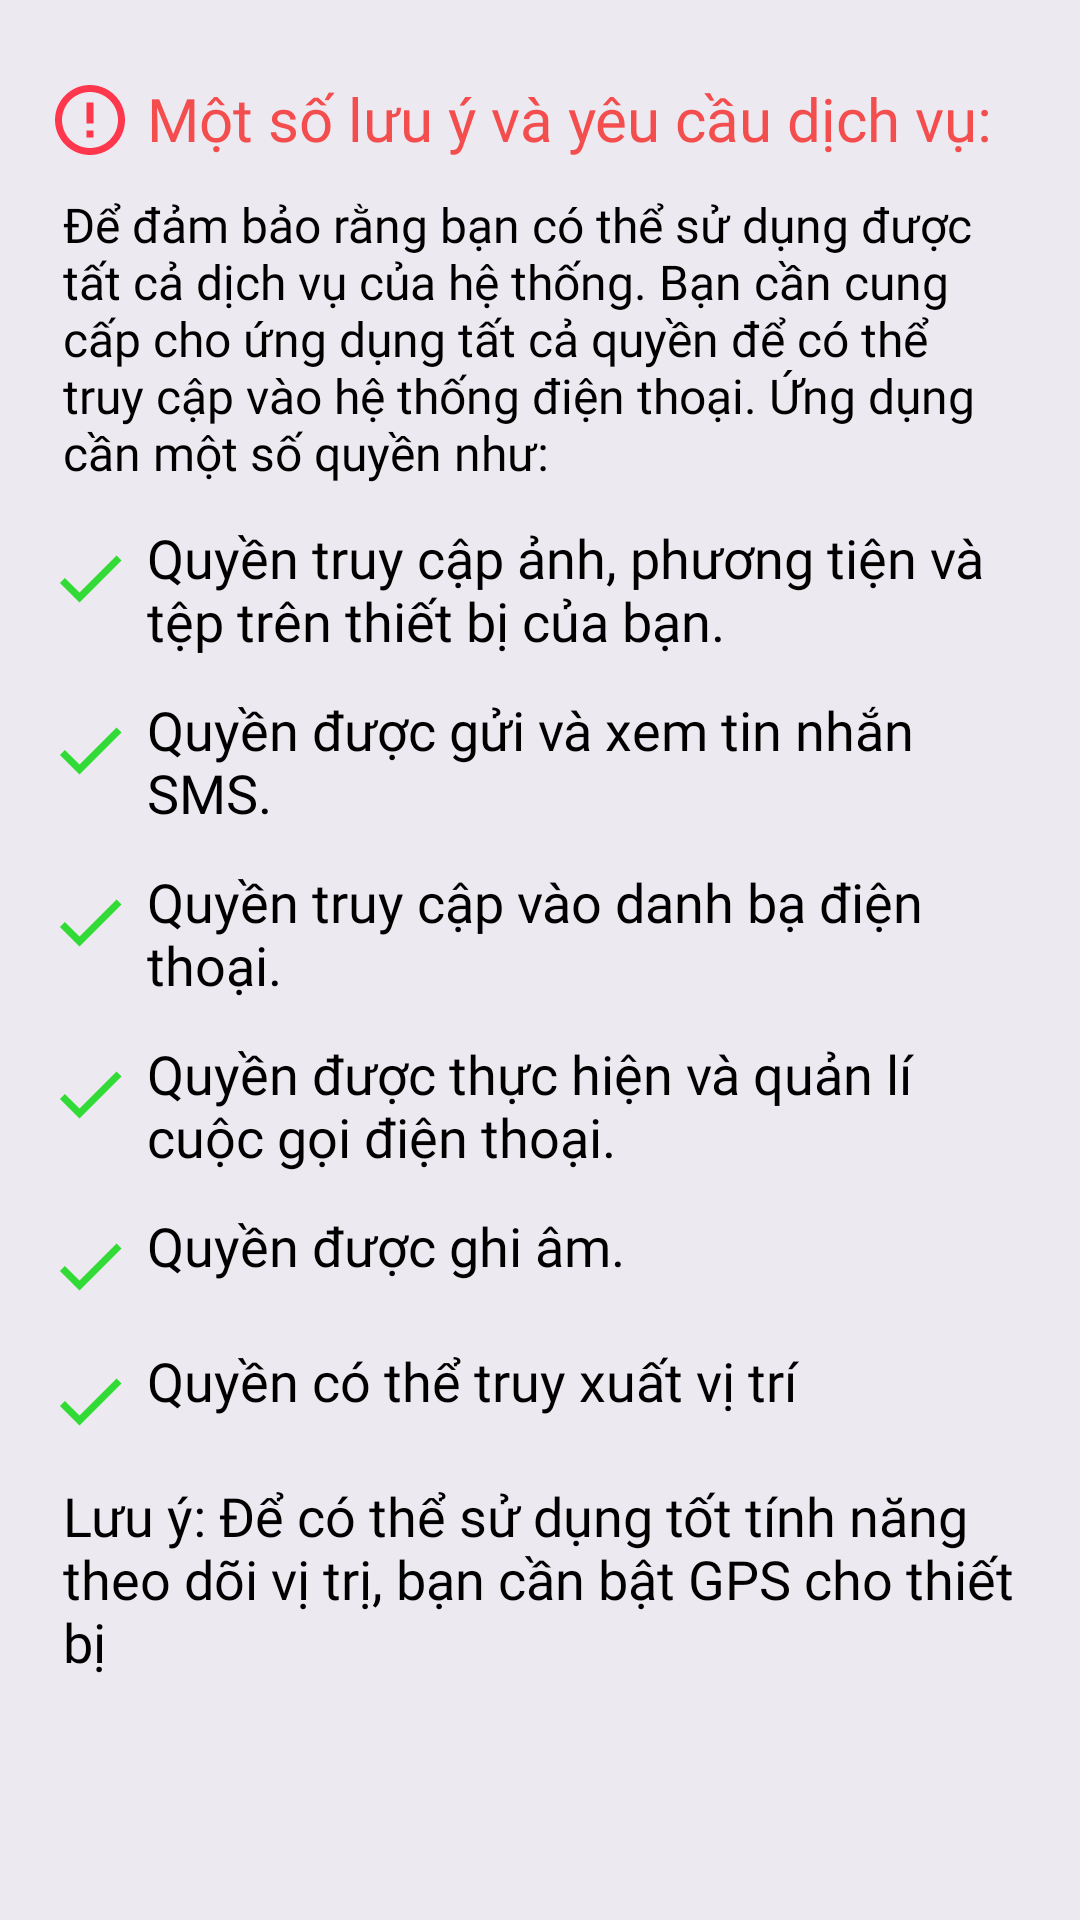

Icons on this 1080px×1920px Android screen, each with the point to tap as point (x, y):
check: point (91, 579), point (91, 751), point (91, 923), point (91, 1095), point (91, 1267), point (91, 1402)
error: point (90, 120)
